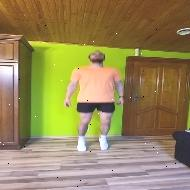high_jumps: (62, 45, 134, 153)
